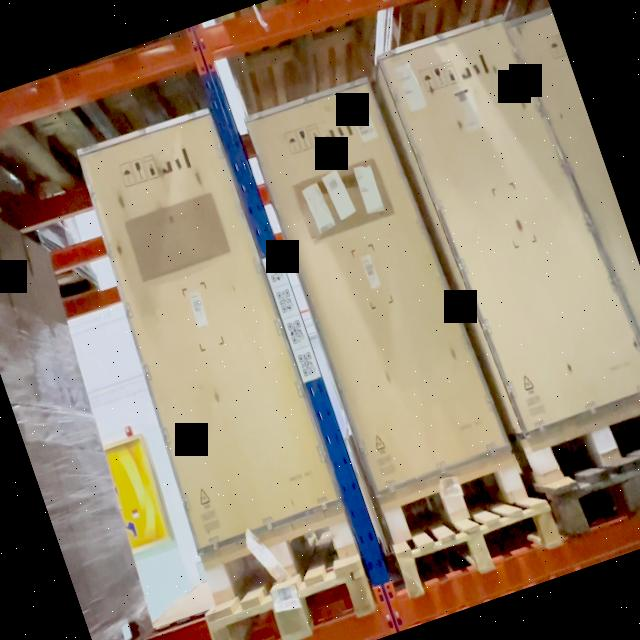box: (79, 108, 343, 547), (243, 74, 511, 497), (379, 17, 640, 433)
